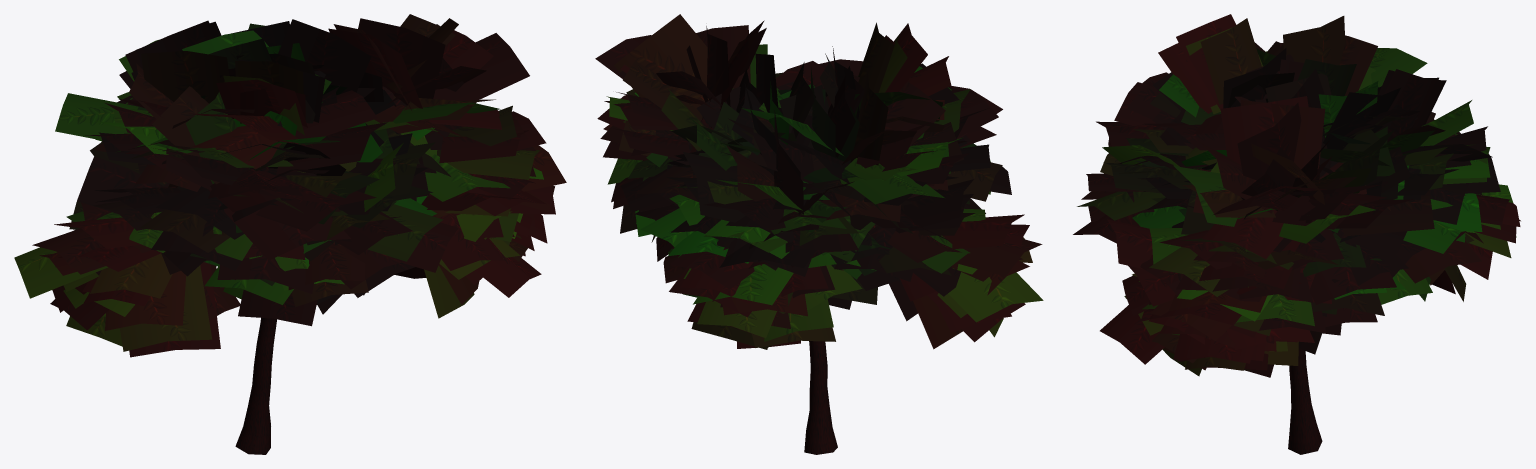
File: veg_neem2_far.glb
3 views of the same model, side by side, from view 1: azimuth 30°, elevation 25°; view 2: azimuth 150°, elevation 25°; view 3: azimuth 270°, elevation 25° (orthographic). The views are drawn at different scales.
Visible parts, largest first — view 1: neem_2; view 2: neem_2; view 3: neem_2.
Part boxes in pixels (x1,y1,x2,y2): neem_2: [14, 14, 566, 454]; neem_2: [595, 14, 1043, 454]; neem_2: [1073, 14, 1520, 454].
Bounding box in the file's own units: 12.31 × 10.25 × 10.24.
2 materials, 2 textured.
